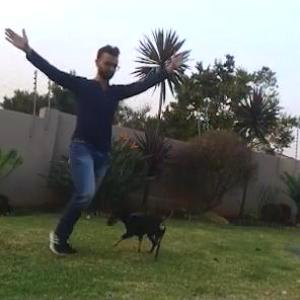takeoff: (15, 26, 163, 235)
